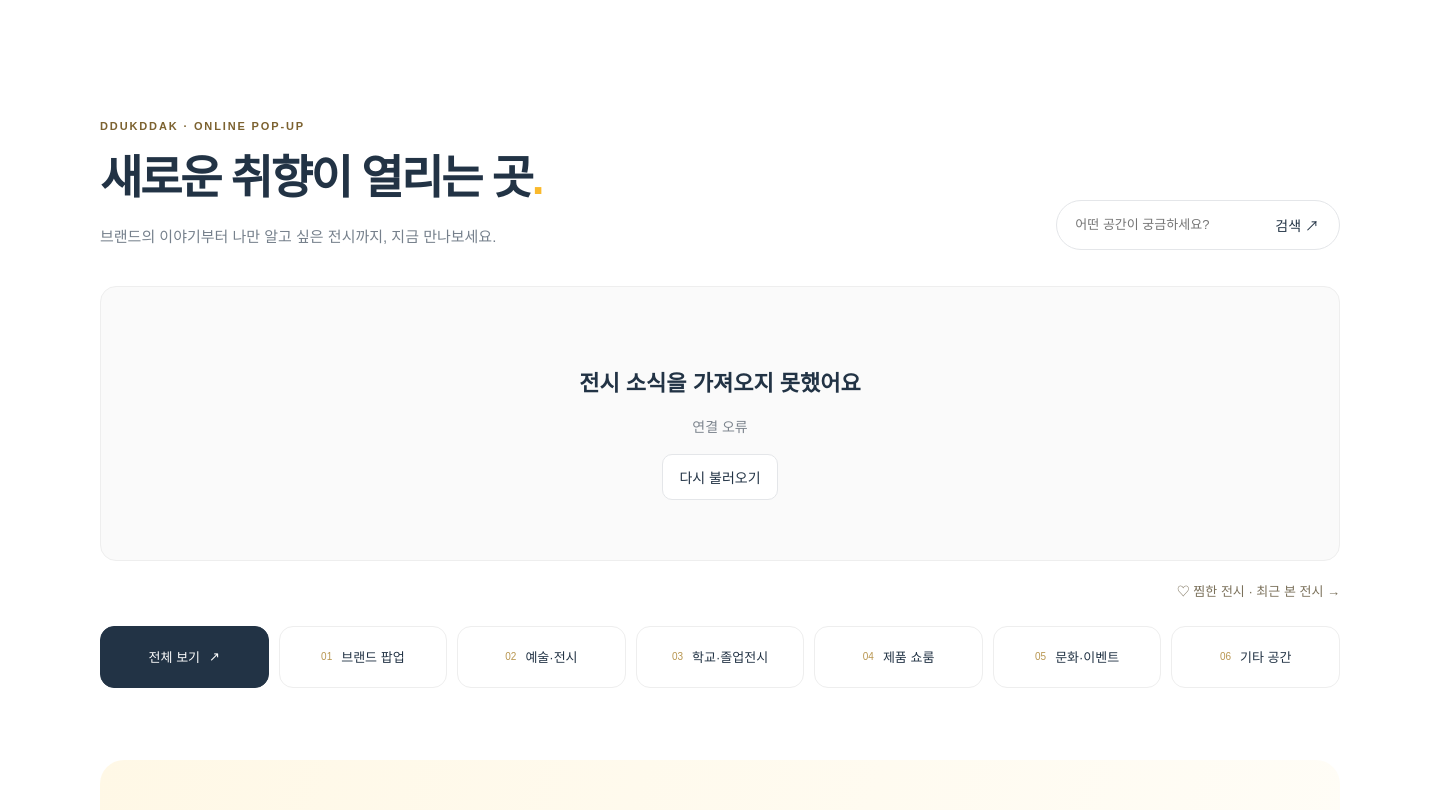
Test case: home recovers from request failure and has a real empty state
Click the button "다시 불러오기" at coordinates (720, 477), box [662,454,778,500]
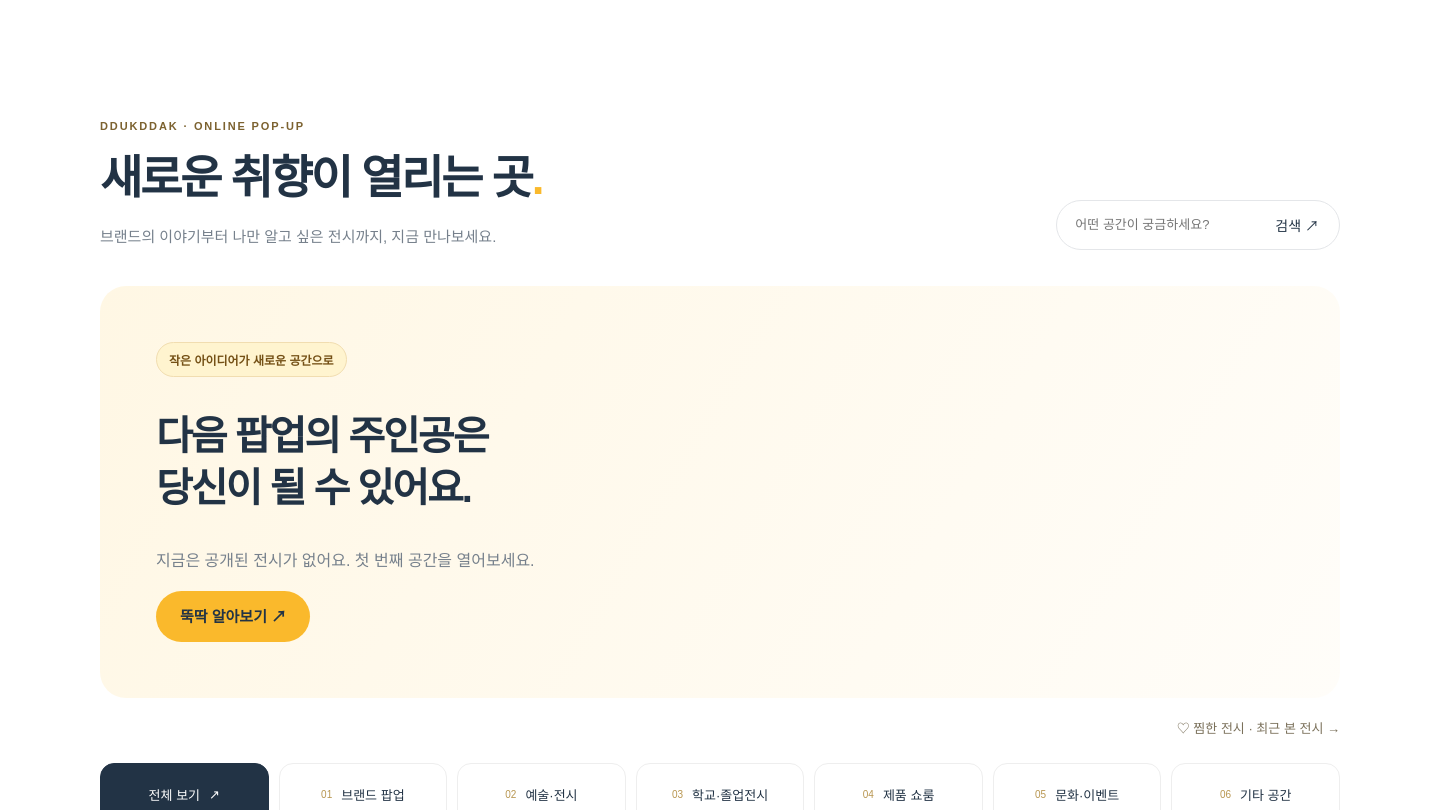
Result: the text "지금은 공개된 전시가 없어요. 첫 번째 공간을 열어보세요." is shown at [156,552,535,569]
